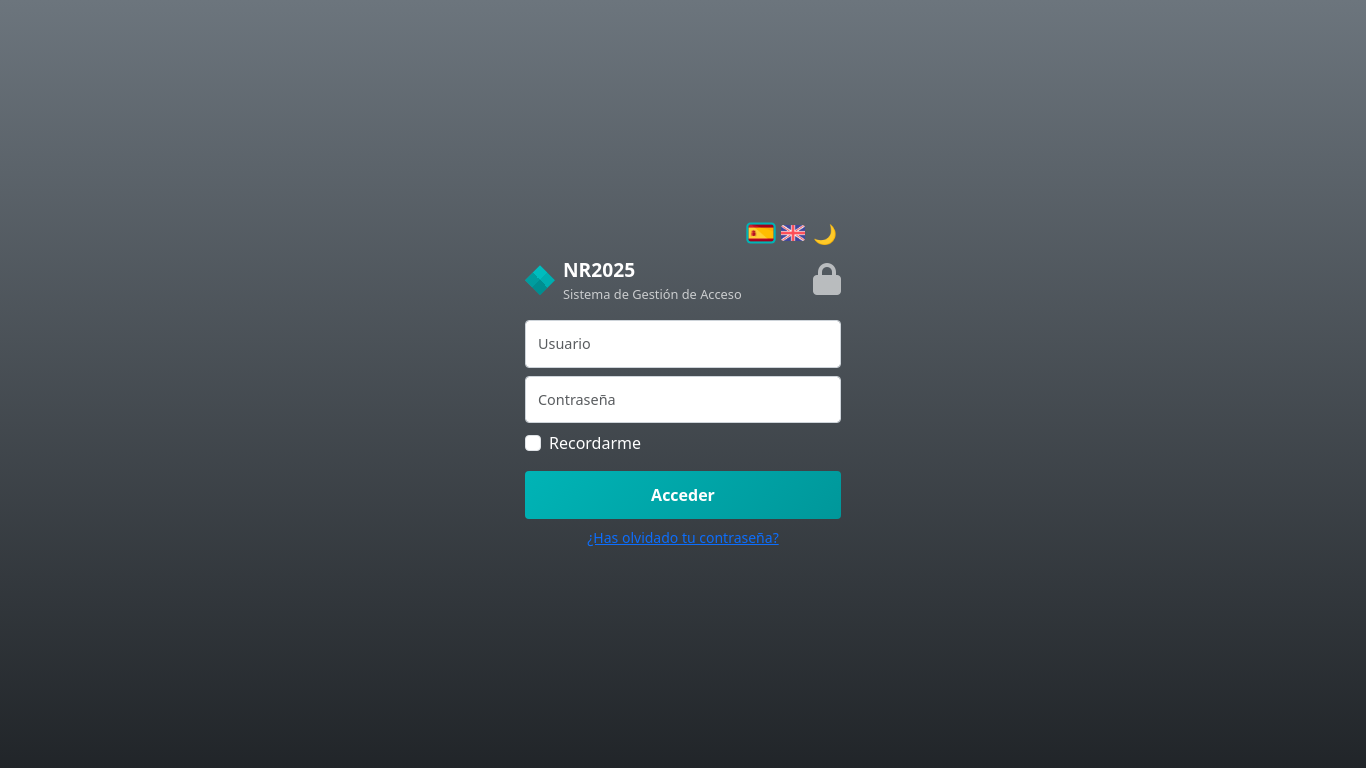
Test: Login.vue › muestra error si el usuario no existe
Type "inexistente" into the field with placeholder "Usuario" at (683,344), box [525,320,841,368]
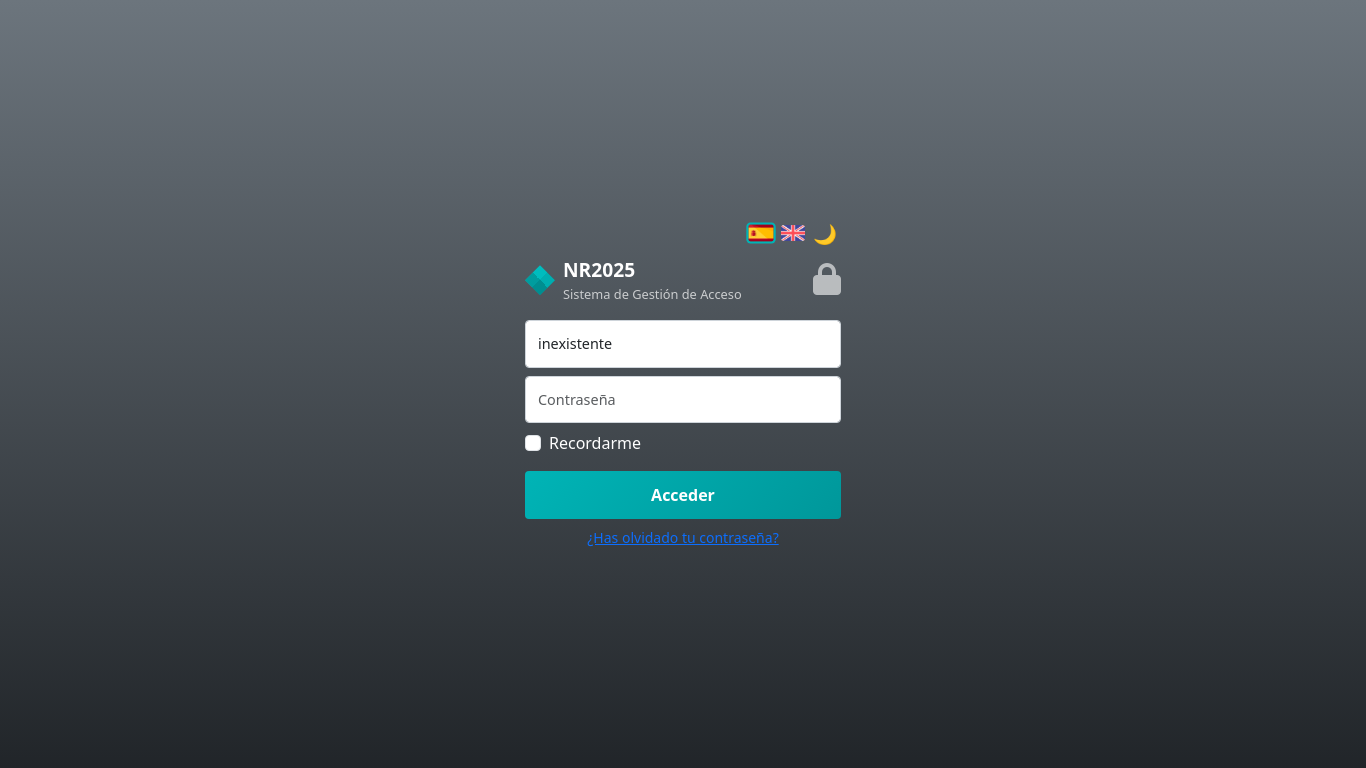
Type "dash001" into the password field with placeholder "Contraseña" at (683,400), box [525,376,841,424]
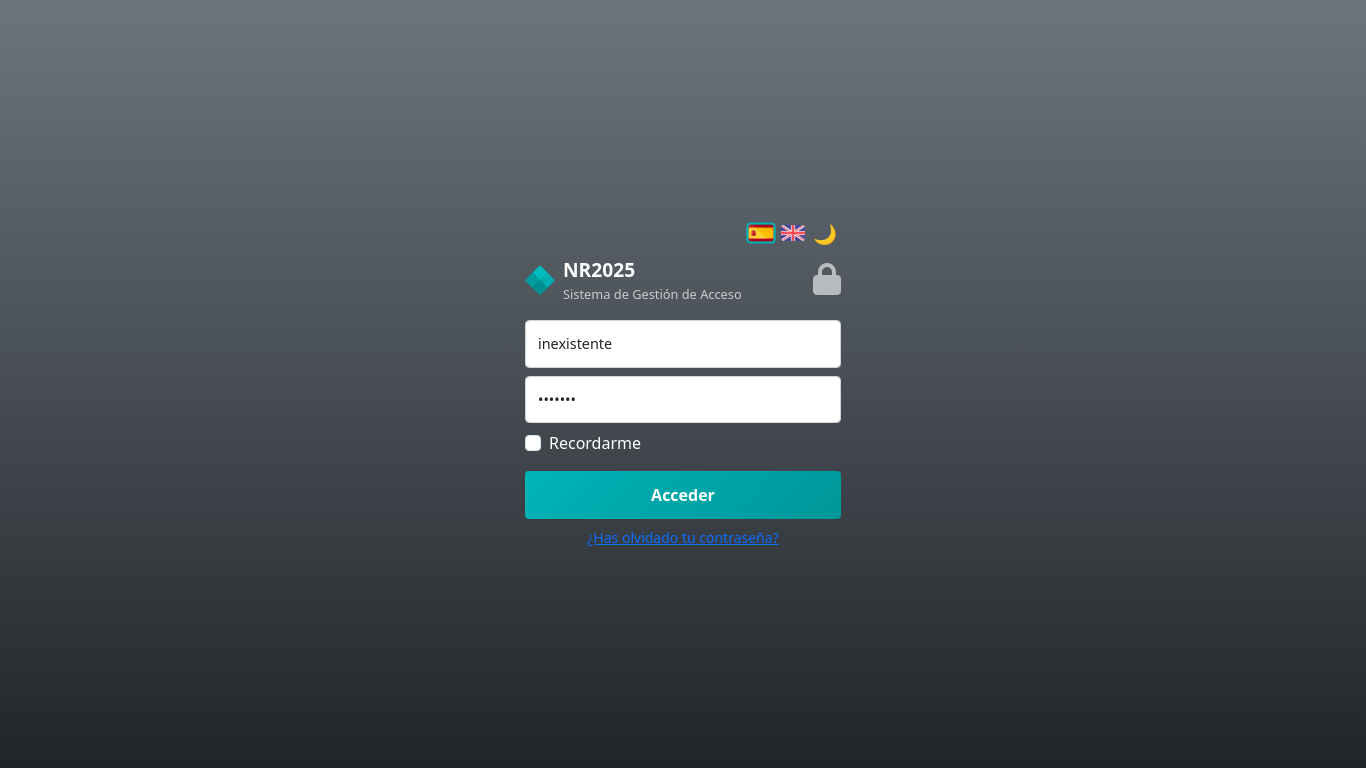
Click the button "Acceder" at (683,496), box [525,472,841,520]
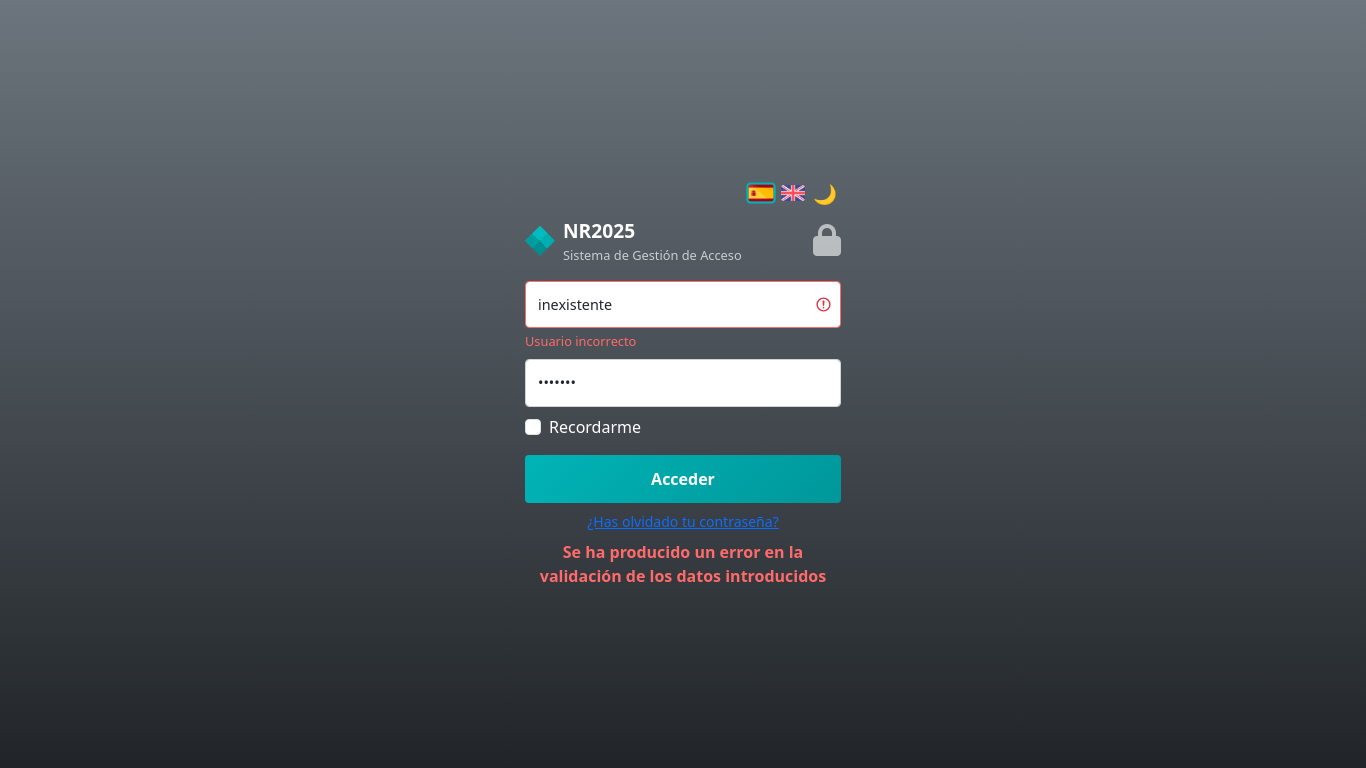
Expected: the text "Usuario incorrecto" is shown, [525,332,636,350]
Expected: the text "Se ha producido un error en la validación de los datos introducidos" is shown, [525,540,841,588]
